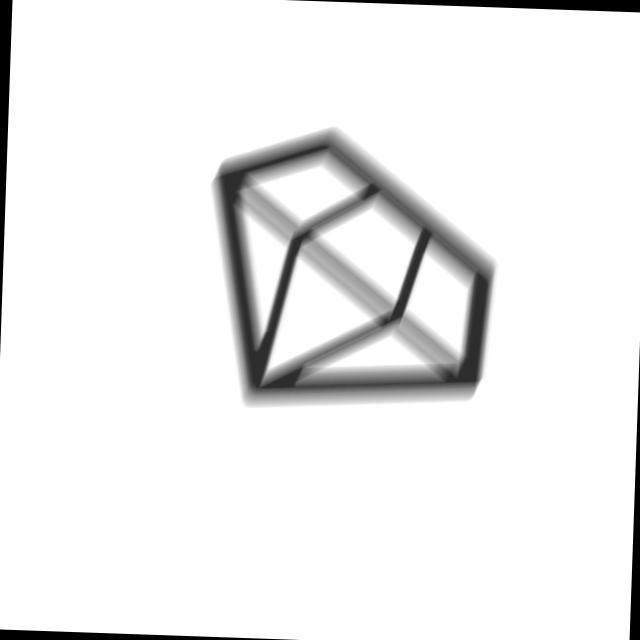diamond: (197, 113, 509, 419)
